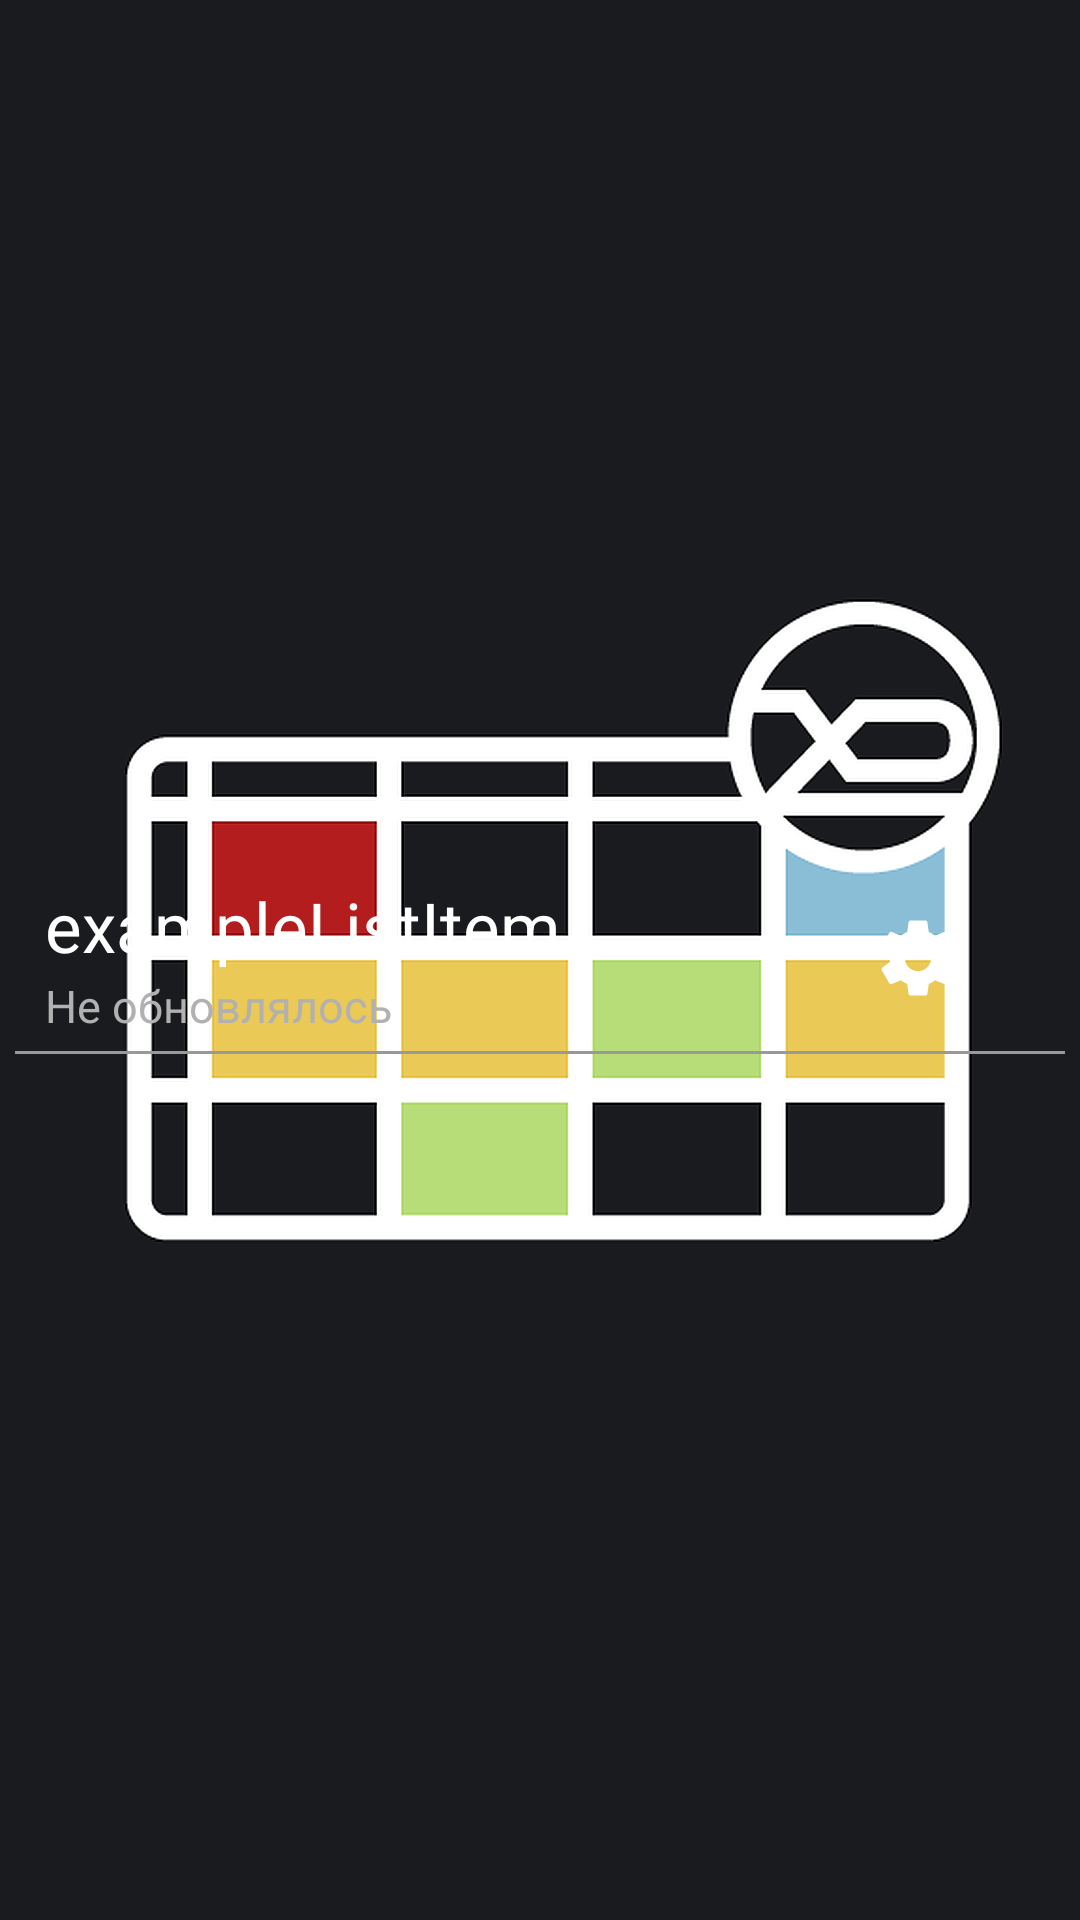

Screen size 1080 x 1920. Icon name, then its center in pixels as (x,y):
settings: (918,957)
